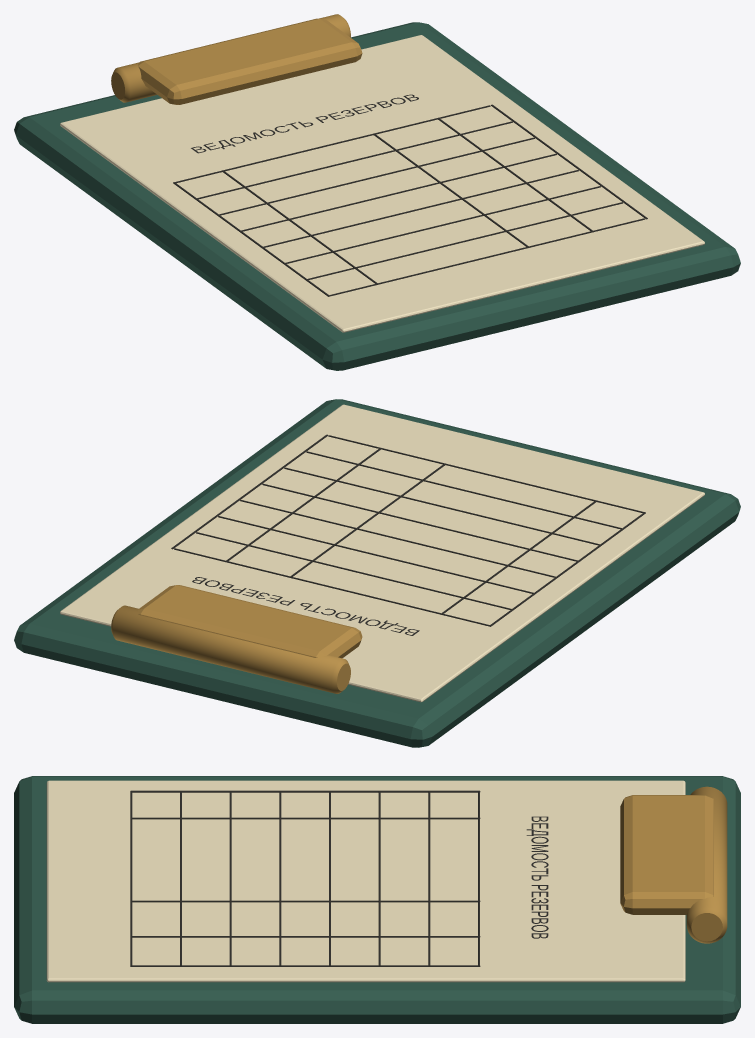
The model's file is ReservesClipboard.fbx.
3 views of the same model, one above another, from view 1: azimuth 30°, elevation 25°; view 2: azimuth 150°, elevation 25°; view 3: azimuth 270°, elevation 25° (orthographic). The views are drawn at different scales.
Visible parts, largest first — view 1: Reserve sheet, Enamel clipboard, Brass clip, Clip pivot, Label.023, Ledger horizontal rule.002, Ledger horizontal rule.004, Ledger horizontal rule.001, Ledger horizontal rule.007, Ledger horizontal rule.005, Ledger horizontal rule, Ledger horizontal rule.003 (+1 smaller); view 2: Reserve sheet, Enamel clipboard, Brass clip, Clip pivot, Label.023, Ledger horizontal rule, Ledger horizontal rule.006, Ledger horizontal rule.007, Ledger horizontal rule.003, Ledger horizontal rule.002, Ledger horizontal rule.004, Ledger horizontal rule.005 (+1 smaller); view 3: Reserve sheet, Enamel clipboard, Brass clip, Clip pivot, Label.023, Ledger vertical rule, Ledger vertical rule.002, Ledger vertical rule.001, Ledger vertical rule.004, Ledger vertical rule.003, Ledger horizontal rule.001, Ledger horizontal rule.002 (+3 smaller).
Boxes of the visible parts, x1,y1,x2,y2 form: Reserve sheet: (60,35,704,332); Enamel clipboard: (14,22,740,370); Brass clip: (138,18,362,104); Clip pivot: (111,14,350,102); Label.023: (191,94,418,153); Ledger horizontal rule.002: (218,137,534,215); Ledger horizontal rule.004: (263,170,578,247); Ledger horizontal rule.001: (196,121,512,199); Ledger horizontal rule.007: (329,218,645,296); Ledger horizontal rule.005: (285,186,600,263); Ledger horizontal rule: (175,105,490,183); Ledger horizontal rule.003: (241,153,556,231); Reserve sheet: (60,404,704,702); Enamel clipboard: (14,399,740,747); Brass clip: (138,585,362,658); Clip pivot: (111,605,350,693); Label.023: (192,577,419,635); Ledger horizontal rule: (174,548,489,626); Ledger horizontal rule.006: (306,451,622,529); Ledger horizontal rule.007: (328,435,644,512); Ledger horizontal rule.003: (240,500,556,577); Ledger horizontal rule.002: (218,516,533,593); Ledger horizontal rule.004: (262,483,577,561); Ledger horizontal rule.005: (284,467,599,545); Reserve sheet: (46,780,685,982); Enamel clipboard: (14,776,740,1023); Brass clip: (620,795,713,914); Clip pivot: (686,786,727,943); Label.023: (526,816,548,938); Ledger vertical rule: (130,790,480,792); Ledger vertical rule.002: (132,900,480,902); Ledger vertical rule.001: (131,817,480,819); Ledger vertical rule.004: (130,965,480,966); Ledger vertical rule.003: (130,936,480,937); Ledger horizontal rule.001: (428,791,430,965); Ledger horizontal rule.002: (378,791,380,965).
Size of the model in its own units: 0.24 by 0.0355 by 0.322.
